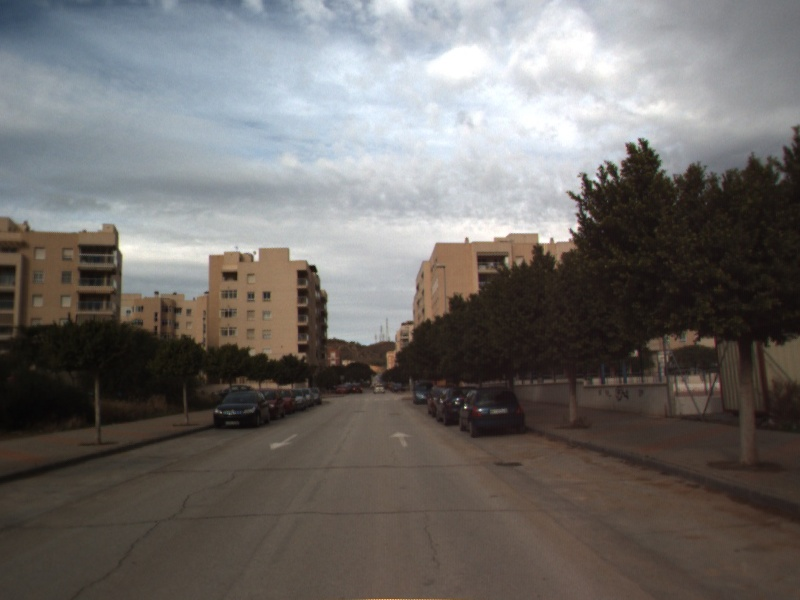STRAIGHT: (388, 429, 415, 449)
